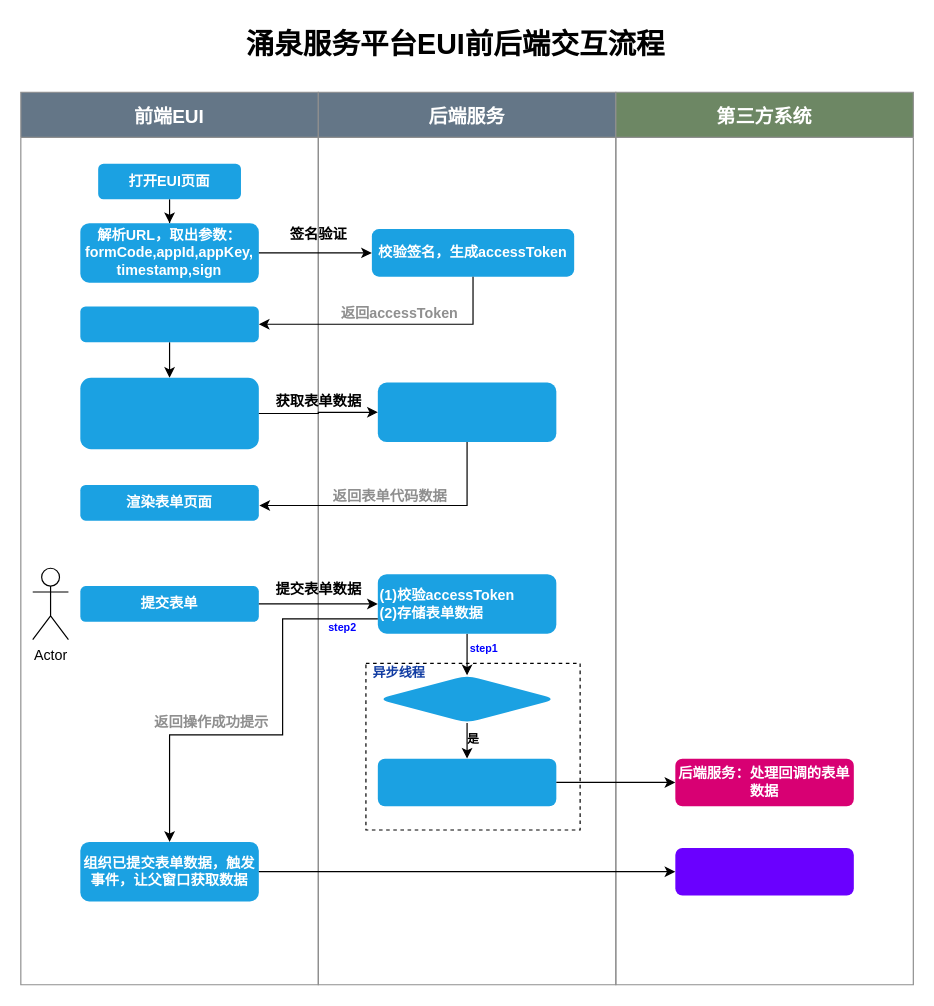
Some shapes in this 934 by 1006 pixel diagram are drawn without their labels. The centre of each missing label's shape, as x and y in pixels:
"(1)校验accessToken (2)根据formCode检索表单数据并返回" belongs at point (466, 411).
"前端服务：处理EUI页面触发的表单数据回调事件" belongs at point (764, 871).
"取得accessToken" belongs at point (169, 324).
"已提交的表单数据回调至 第三方系统后端服务" belongs at point (466, 782).
"提交accessToken, formCode,appId获取表单数据" belongs at point (169, 413).
"是否配置回调地址" belongs at point (466, 698).
